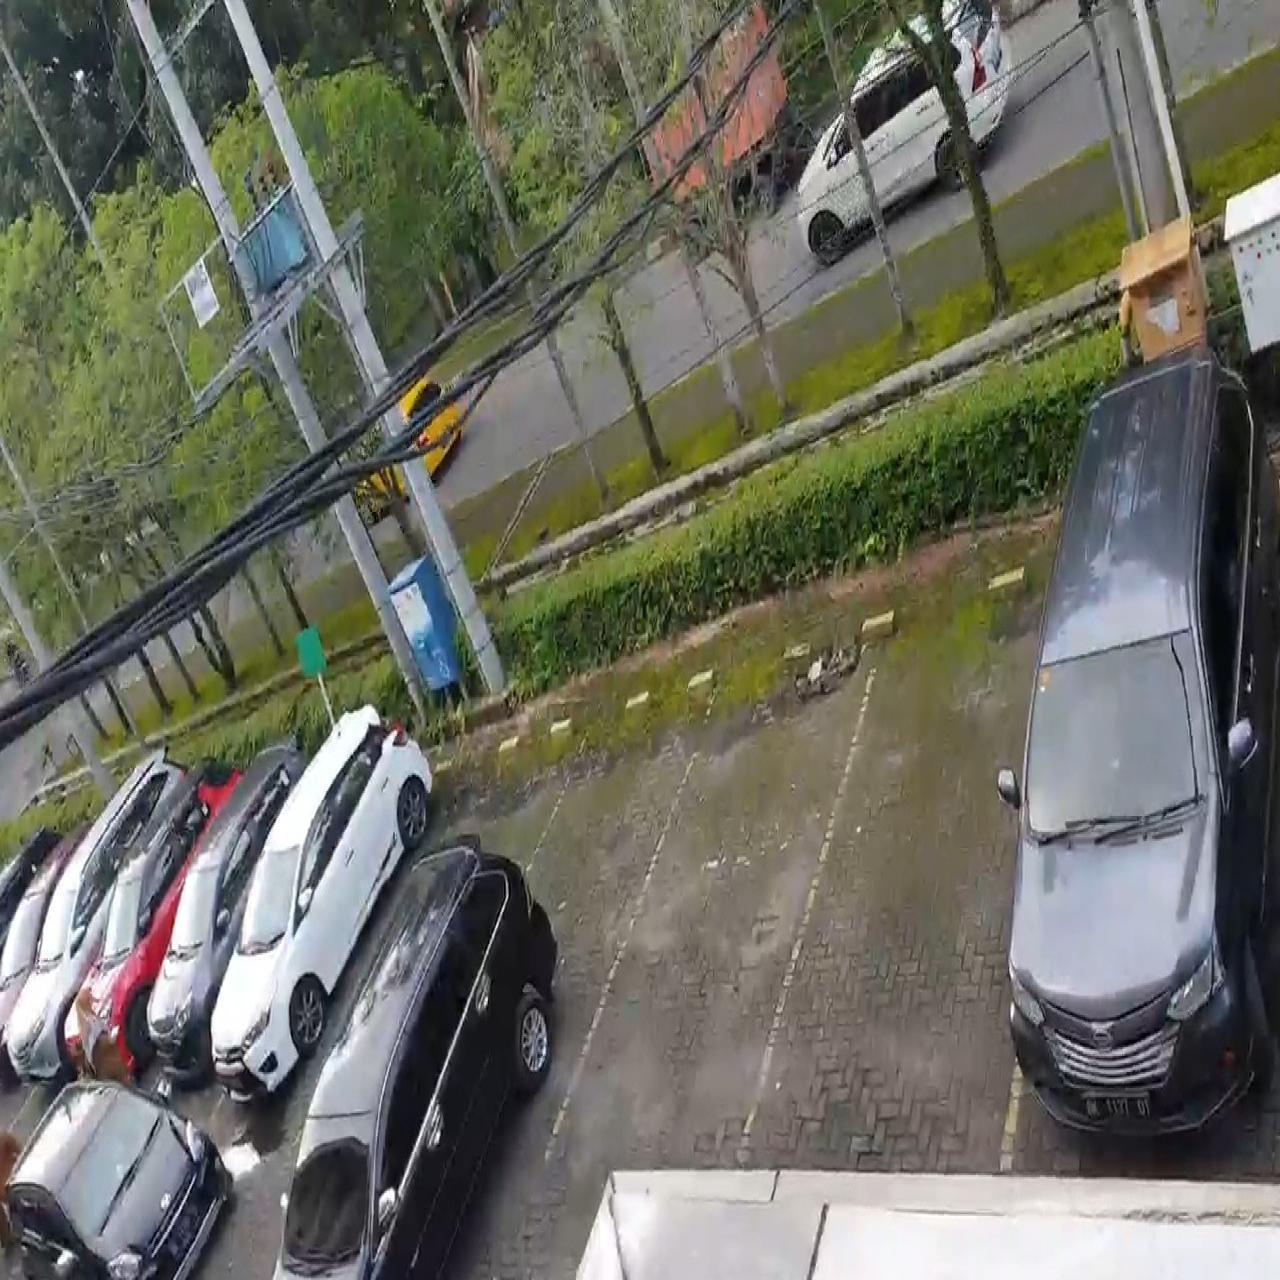empty: (800, 582, 1017, 1168), (633, 649, 818, 1164), (501, 711, 635, 1157)
occupied: (1004, 572, 1280, 1162)
